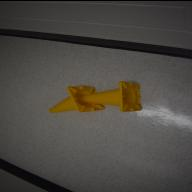cone: (80, 81, 142, 111), (49, 84, 105, 112)
